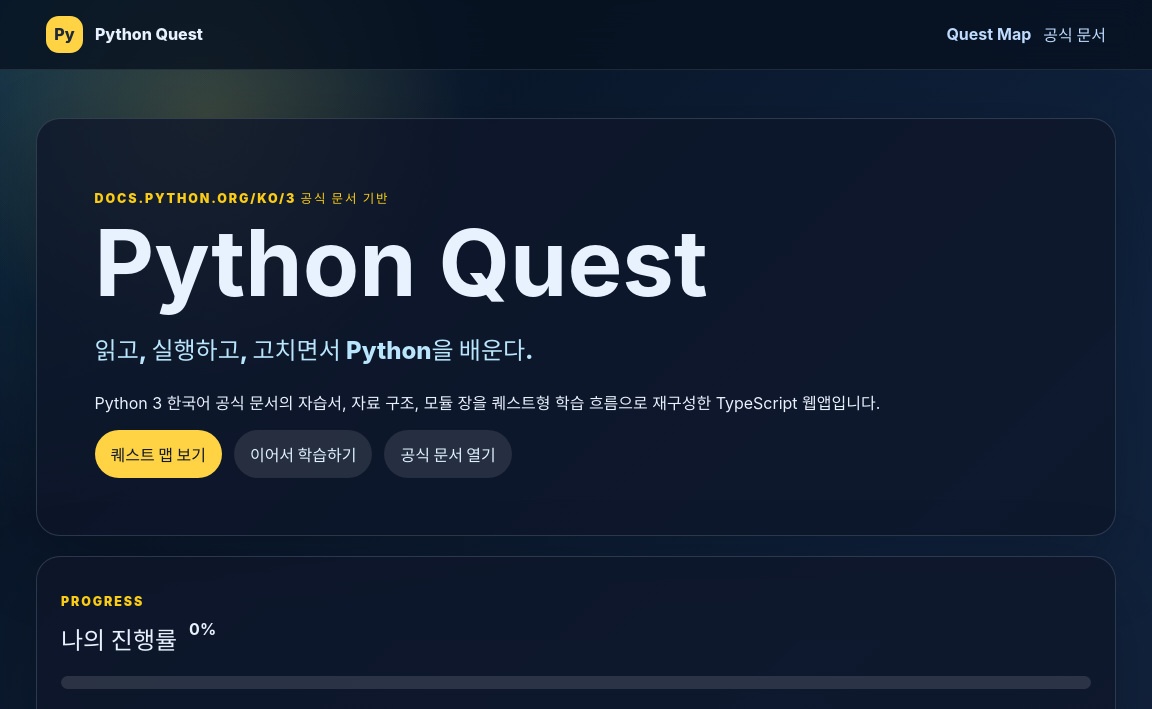
Test: Python Quest MVP › shows a course map aligned with Python tutorial sections
Click the link "퀘스트 맵 보기" at (158, 454), box [95,430,222,478]
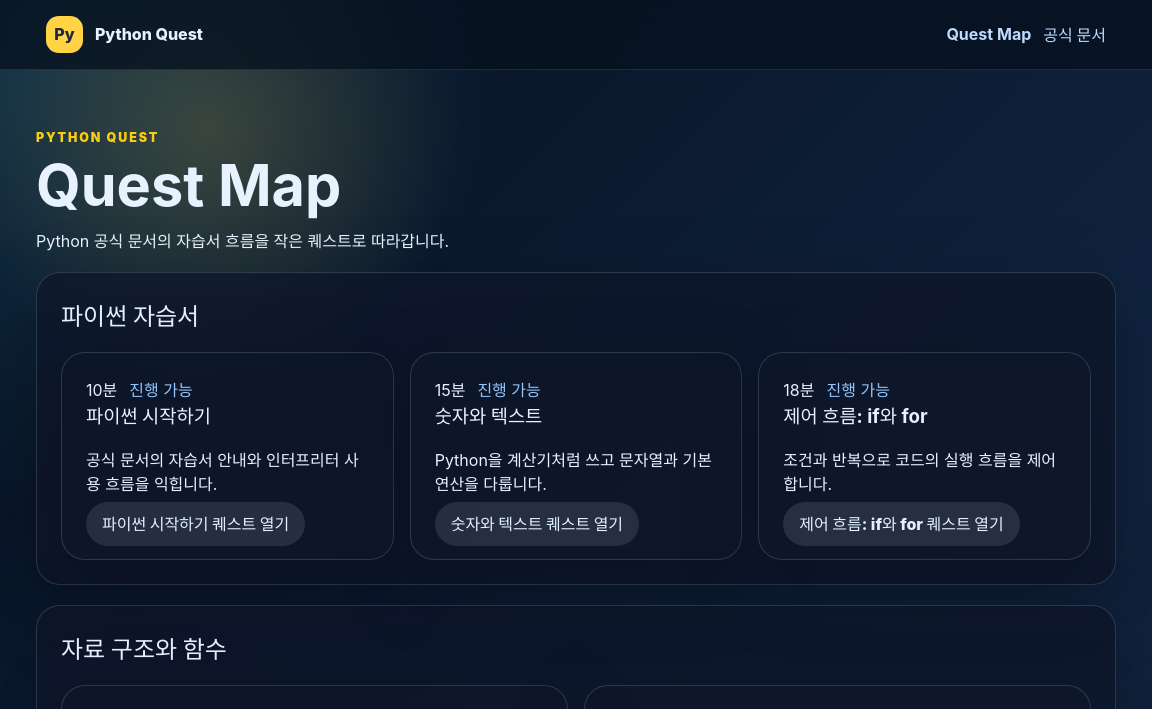
Result: the heading "Quest Map" is shown at [36,150,341,220]
Result: the heading "파이썬 자습서" is shown at [61,302,199,331]
Result: the heading "자료 구조와 함수" is shown at [61,635,227,664]
